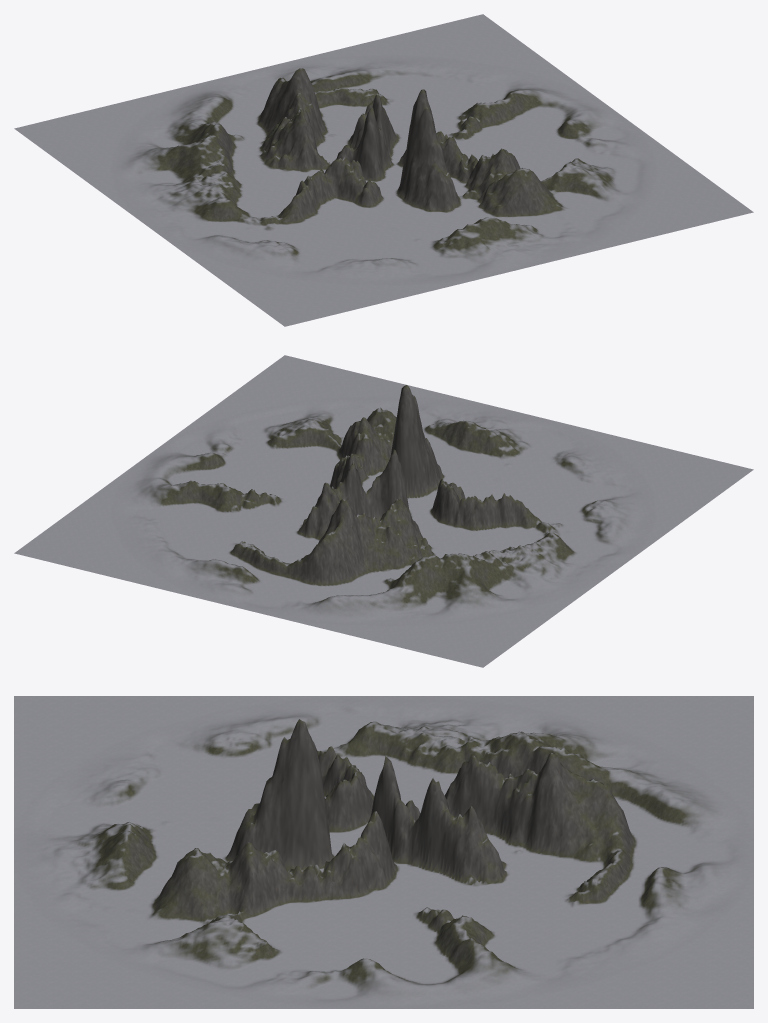
File: Landscape_D.glb
3 views of the same model, one above another, from view 1: azimuth 30°, elevation 25°; view 2: azimuth 150°, elevation 25°; view 3: azimuth 270°, elevation 25° (orthographic). The views are drawn at different scales.
Parts seen in each view (by area): view 1: Landscape.004; view 2: Landscape.004; view 3: Landscape.004.
Part boxes in pixels (<box>): Landscape.004: <box>14,14,753,326</box>; Landscape.004: <box>14,355,753,667</box>; Landscape.004: <box>14,696,753,1008</box>.
Size of the model in its own units: 500 by 105 by 500.
Materials: 1 (1 with a texture image).
